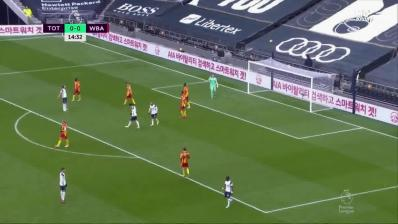player: (56, 165, 72, 205), (221, 174, 236, 210), (178, 146, 194, 179), (55, 118, 72, 149), (125, 102, 141, 131), (56, 84, 71, 113), (146, 101, 160, 130), (207, 73, 221, 100), (122, 82, 136, 108), (70, 78, 83, 104), (176, 90, 187, 118), (183, 82, 192, 111)
